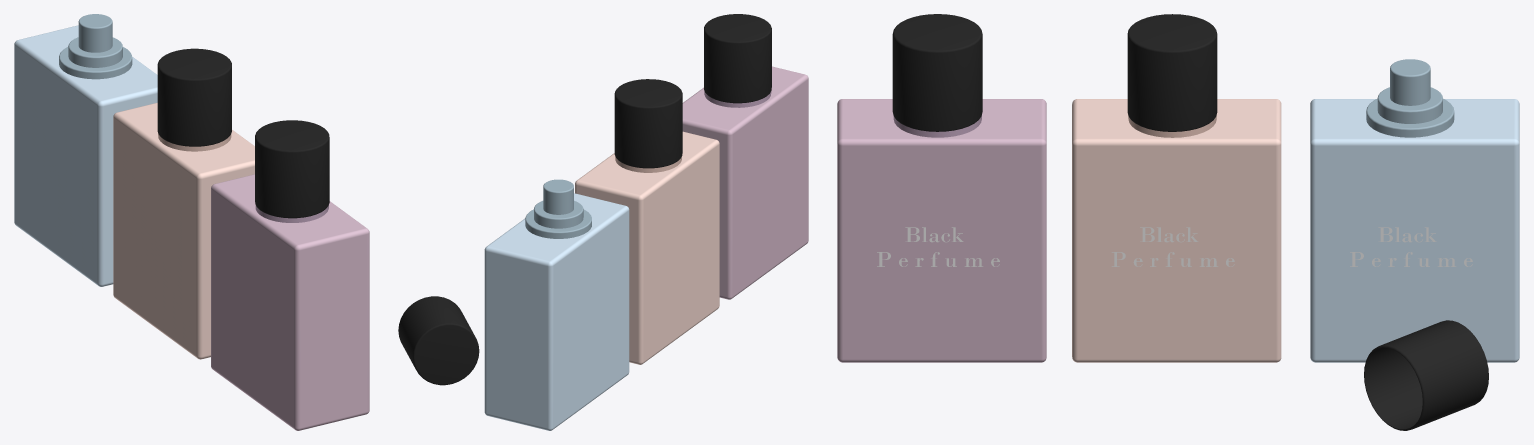
File: Perfumes.fbx
3 views of the same model, side by side, from view 1: azimuth 30°, elevation 25°; view 2: azimuth 150°, elevation 25°; view 3: azimuth 270°, elevation 25° (orthographic). The views are drawn at different scales.
Visible parts, largest first — view 1: body, body-2, body-1, cap, cap-1, u-cap-2, u-cap-1, u-cap; view 2: body-2, body-1, body, cap-1, cap, cap-2, u-cap-2; view 3: body, body-1, body-2, cap-2, cap, cap-1, u-cap-2.
Part boxes in pixels (x1=…): body: x1=211, y1=174, x2=369, y2=430; body-2: x1=14, y1=25, x2=157, y2=286; body-1: x1=113, y1=102, x2=254, y2=359; cap: x1=255, y1=120, x2=329, y2=218; cap-1: x1=157, y1=48, x2=231, y2=146; u-cap-2: x1=59, y1=14, x2=132, y2=79; u-cap-1: x1=158, y1=133, x2=231, y2=151; u-cap: x1=255, y1=205, x2=328, y2=222; body-2: x1=484, y1=193, x2=629, y2=430; body-1: x1=575, y1=131, x2=719, y2=364; body: x1=682, y1=66, x2=808, y2=299; cap-1: x1=614, y1=79, x2=682, y2=168; cap: x1=704, y1=14, x2=771, y2=103; cap-2: x1=398, y1=296, x2=479, y2=385; u-cap-2: x1=525, y1=179, x2=591, y2=238; body: x1=837, y1=99, x2=1046, y2=362; body-1: x1=1072, y1=99, x2=1281, y2=362; body-2: x1=1310, y1=99, x2=1519, y2=362; cap-2: x1=1364, y1=320, x2=1488, y2=430; cap: x1=892, y1=14, x2=982, y2=131; cap-1: x1=1127, y1=14, x2=1217, y2=131; u-cap-2: x1=1366, y1=59, x2=1454, y2=137.
Size of the model in its own units: 313 by 374 by 743.
